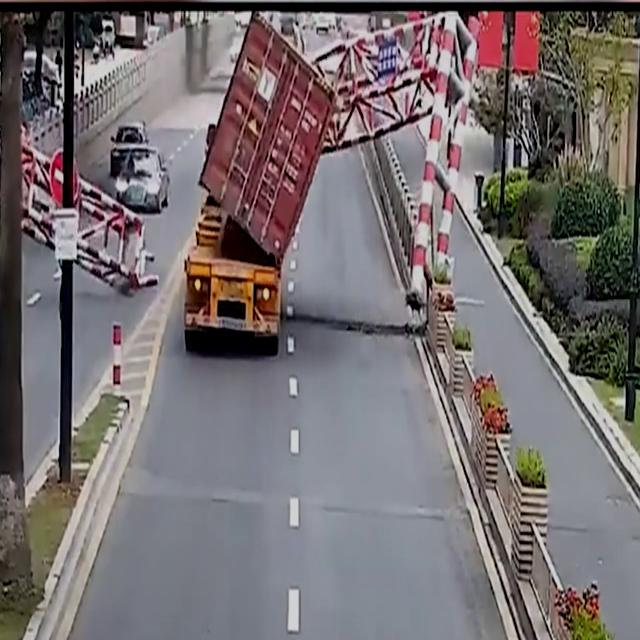accident: (180, 12, 352, 356)
non-accident: (108, 120, 170, 216)
